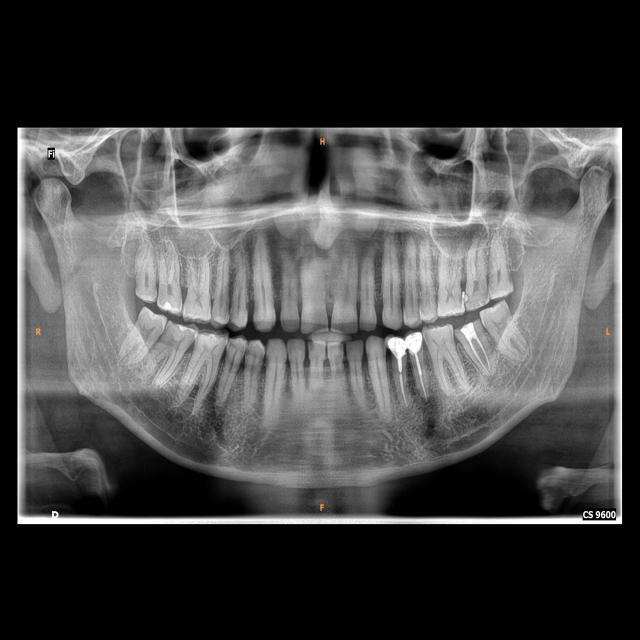dolgu: (454, 320, 478, 340)
kanal-tedavisi: (469, 341, 495, 372), (412, 355, 429, 395), (398, 359, 407, 412)
kaplama: (388, 333, 411, 358), (404, 330, 425, 353)
